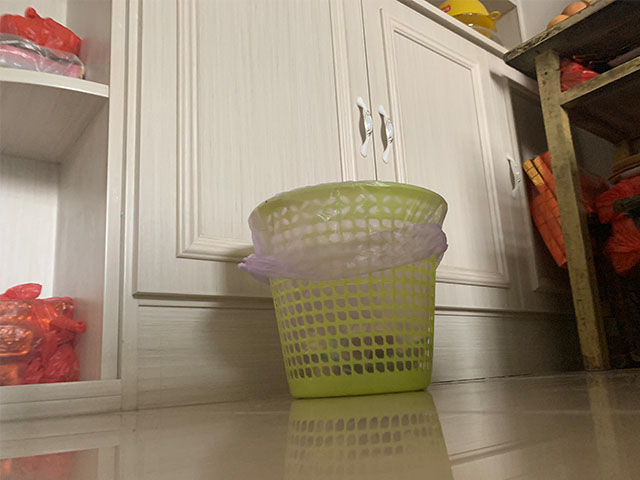cabinet: (1, 1, 576, 427)
table: (502, 1, 640, 376)
trashcan: (246, 180, 451, 399)
